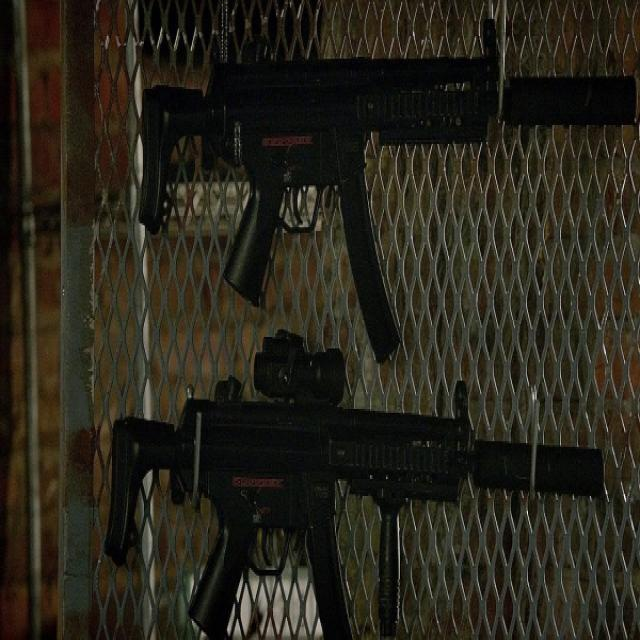rifle: (136, 14, 639, 368), (108, 327, 610, 640)
